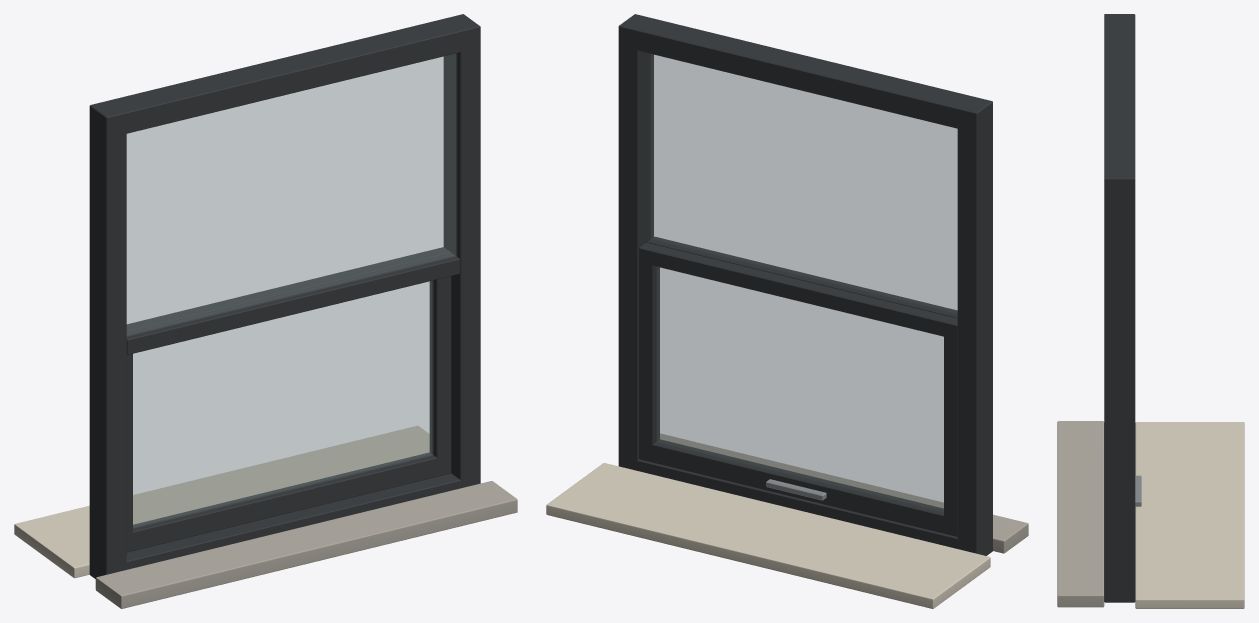
File: prop_window_w100_h120_sash.glb
The picture shows the model from 3 angles, left to right: view 1: azimuth 30°, elevation 25°; view 2: azimuth 150°, elevation 25°; view 3: azimuth 270°, elevation 25°; orthographic projection. The views are drawn at different scales.
Visible parts, largest first — view 1: Frame, Glass, SashFrame; view 2: Frame, Glass, SashFrame; view 3: Frame.
Boxes of the visible parts, x1,y1,x2,y2 form: Frame: [14, 14, 517, 608]; Glass: [133, 281, 433, 528]; SashFrame: [126, 247, 451, 552]; Frame: [546, 14, 1028, 608]; Glass: [656, 267, 943, 511]; SashFrame: [639, 242, 957, 536]; Frame: [1057, 14, 1244, 608].
Size of the model in its own units: 1.08 by 1.2 by 0.48.
